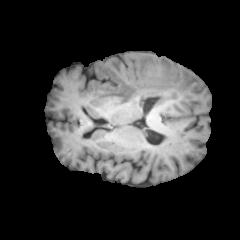glioma: (97, 54, 199, 122)
